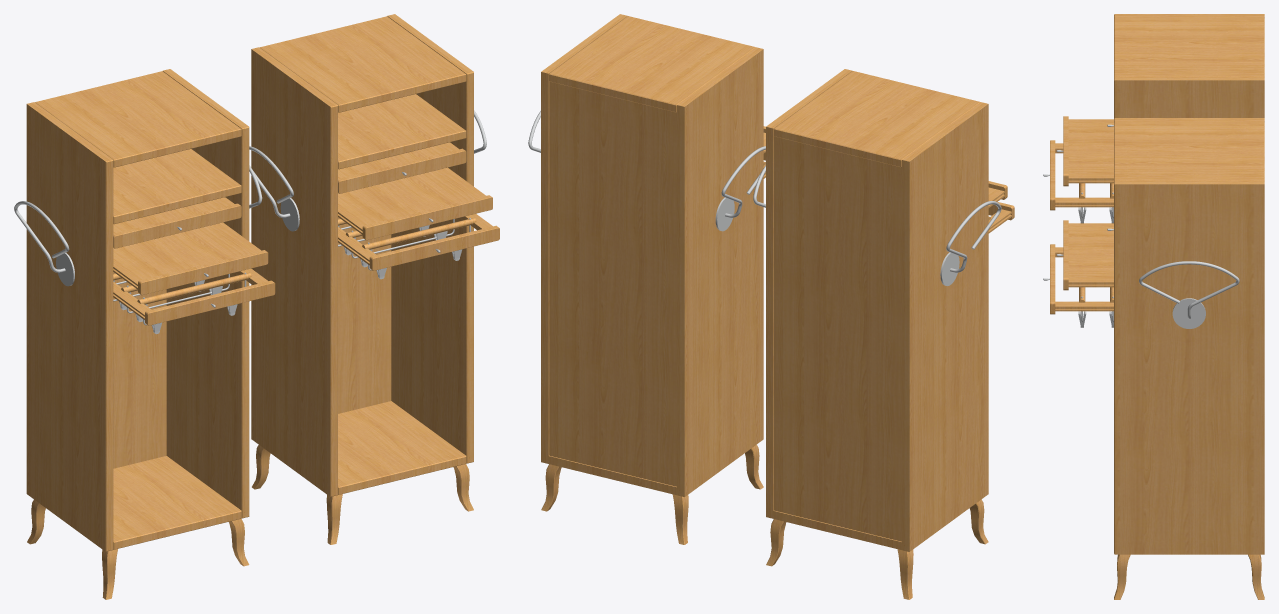
File: yigui.FBX
3 renders of one model, left to right at view 1: azimuth 30°, elevation 25°; view 2: azimuth 150°, elevation 25°; view 3: azimuth 270°, elevation 25°, orthographic. The views are drawn at different scales.
Visible parts, largest first — view 1: yg011, yg010; view 2: yg011, yg010; view 3: yg010, yg011.
Part boxes in pixels (left/top/right/bottom): yg011: left=14, top=69, right=275, bottom=599; yg010: left=249, top=14, right=499, bottom=544; yg011: left=753, top=69, right=1014, bottom=599; yg010: left=528, top=14, right=765, bottom=544; yg010: left=1043, top=118, right=1264, bottom=599; yg011: left=1043, top=14, right=1264, bottom=223.
Size of the model in its own units: 1414 by 661 by 1370.
Materials: 2 (1 with a texture image).
